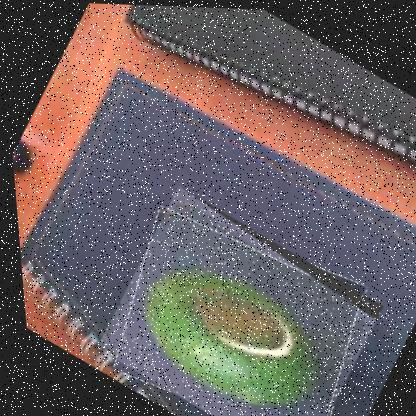orange_rotten: (78, 180, 388, 415)
